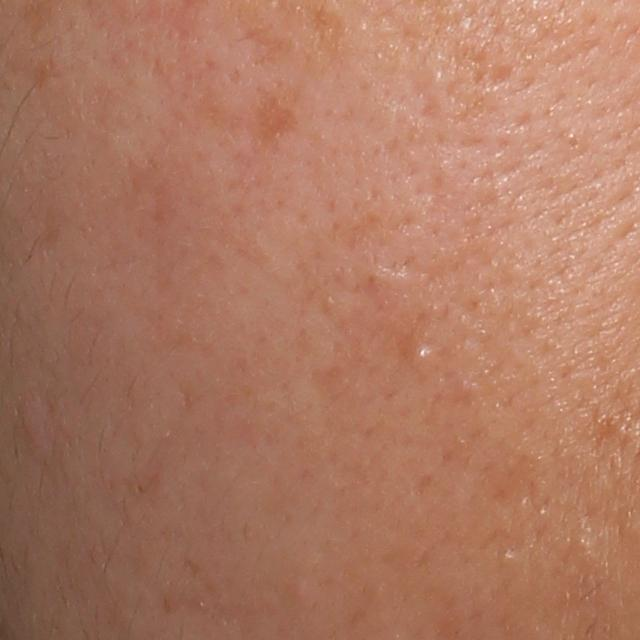comedo: (288, 577, 310, 605), (498, 545, 519, 566)
